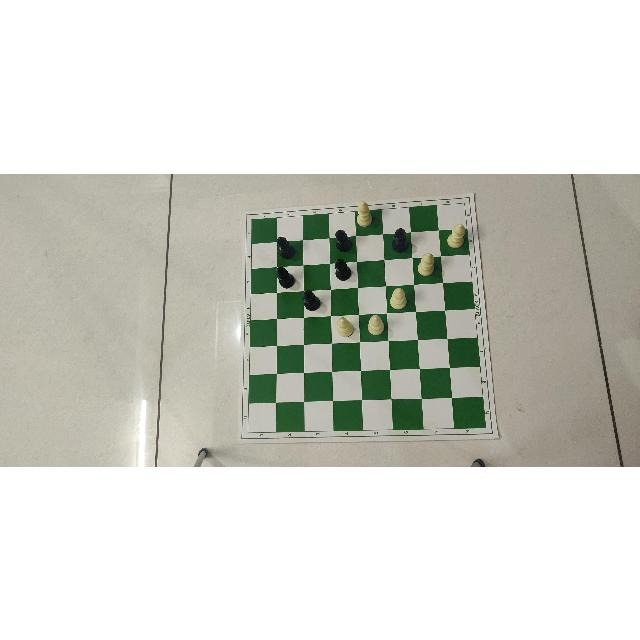black-bishop: (274, 234, 296, 258), (273, 266, 297, 287), (332, 229, 354, 251), (332, 256, 352, 279), (301, 289, 321, 311), (391, 227, 409, 251)
white-bishop: (355, 199, 375, 225), (447, 219, 464, 248), (417, 253, 437, 275), (390, 287, 408, 309), (367, 313, 384, 335), (336, 316, 354, 336)
